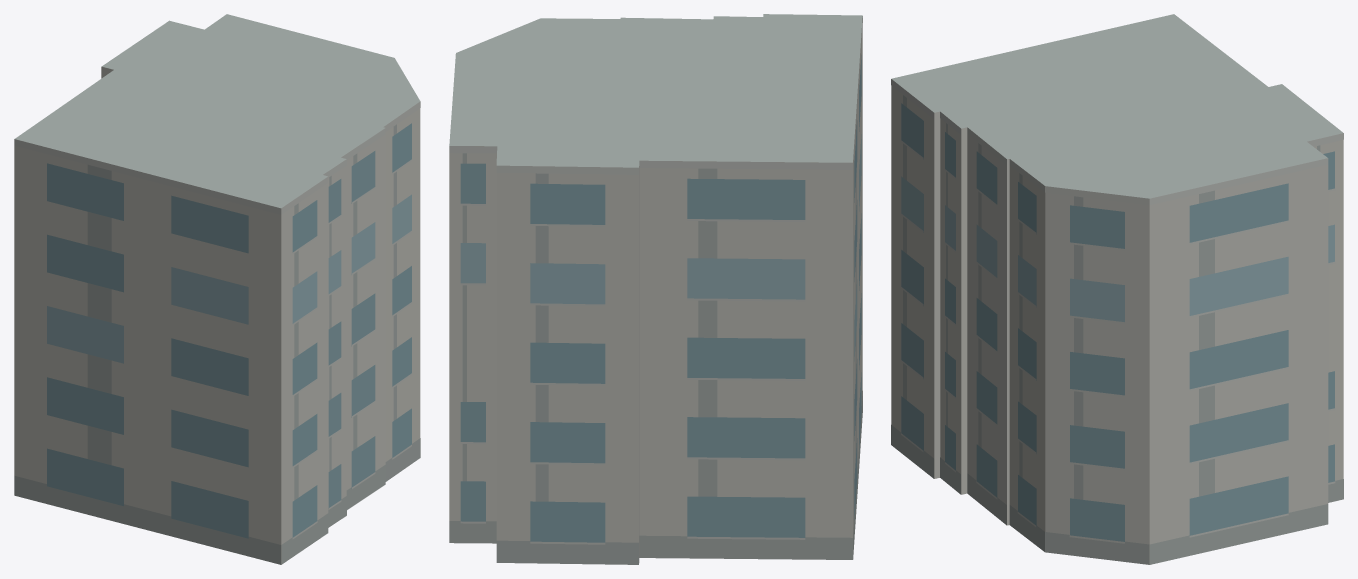
File: survey-upis-32499310.glb
3 renders of one model, left to right at view 1: azimuth 30°, elevation 25°; view 2: azimuth 150°, elevation 25°; view 3: azimuth 270°, elevation 25°, orthographic. The views are drawn at different scales.
Visible parts, largest first — view 1: survey-upis-32499310.tmp; view 2: survey-upis-32499310.tmp; view 3: survey-upis-32499310.tmp.
Part boxes in pixels (x1,y1,x2,y2): survey-upis-32499310.tmp: (14, 14, 420, 564); survey-upis-32499310.tmp: (449, 14, 862, 564); survey-upis-32499310.tmp: (891, 14, 1343, 564).
Size of the model in its own units: 14.35 by 13.26 by 14.86.
